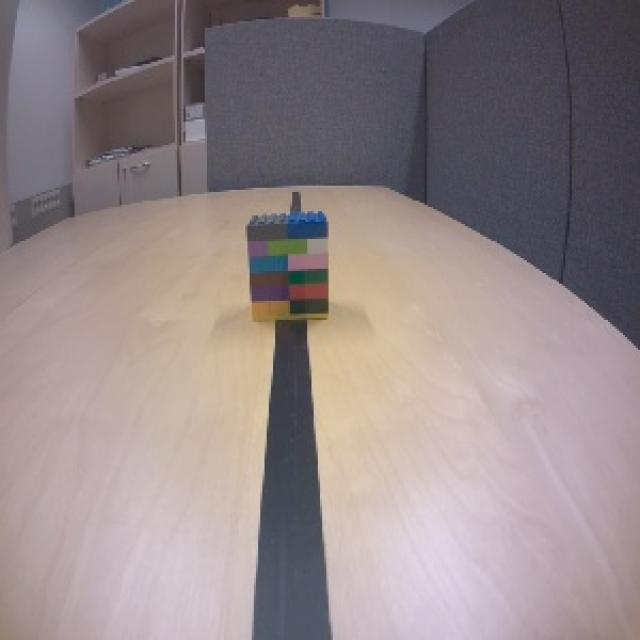obstacle: (243, 209, 331, 325)
